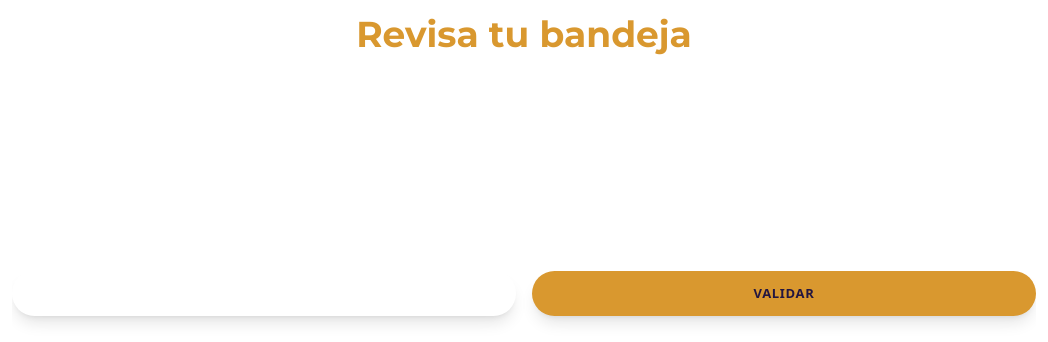
Scenario: SendCode › debe mostrar error si el código está vacío
Step 1. Click the button "Validar" → (784, 293), box [532,270,1036,316]
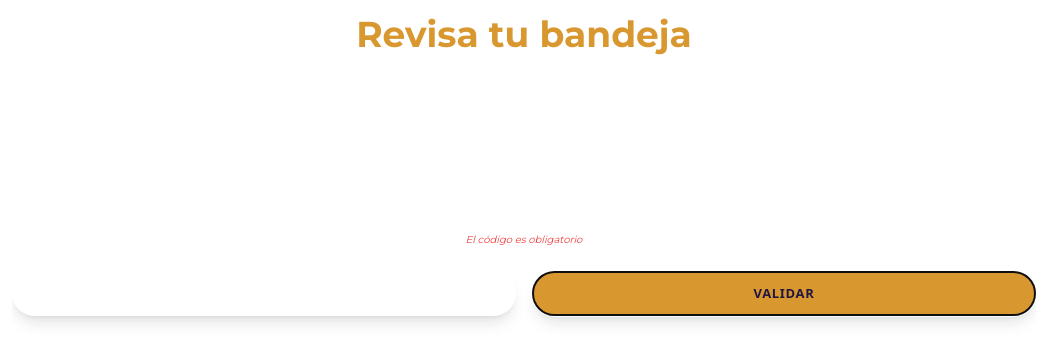
Check: the text "El código es obligatorio" is shown, box [466,232,582,246]
